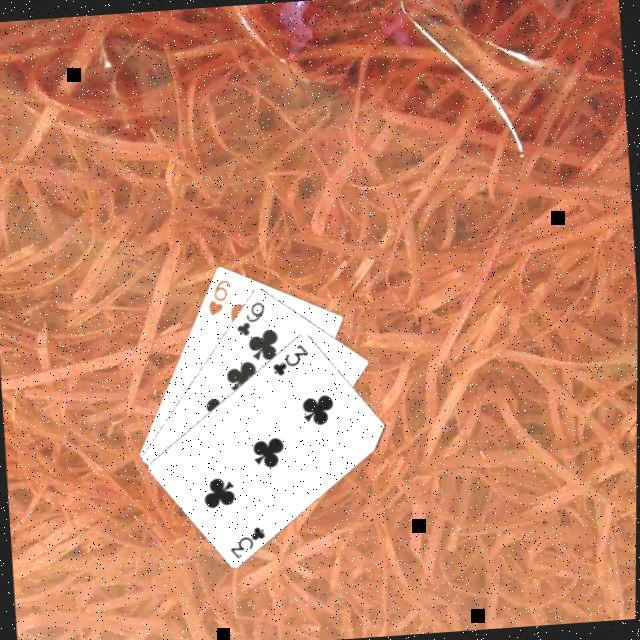3C: (228, 522, 273, 564), (270, 340, 314, 380)
6H: (206, 276, 238, 321)
9C: (234, 298, 272, 340)
